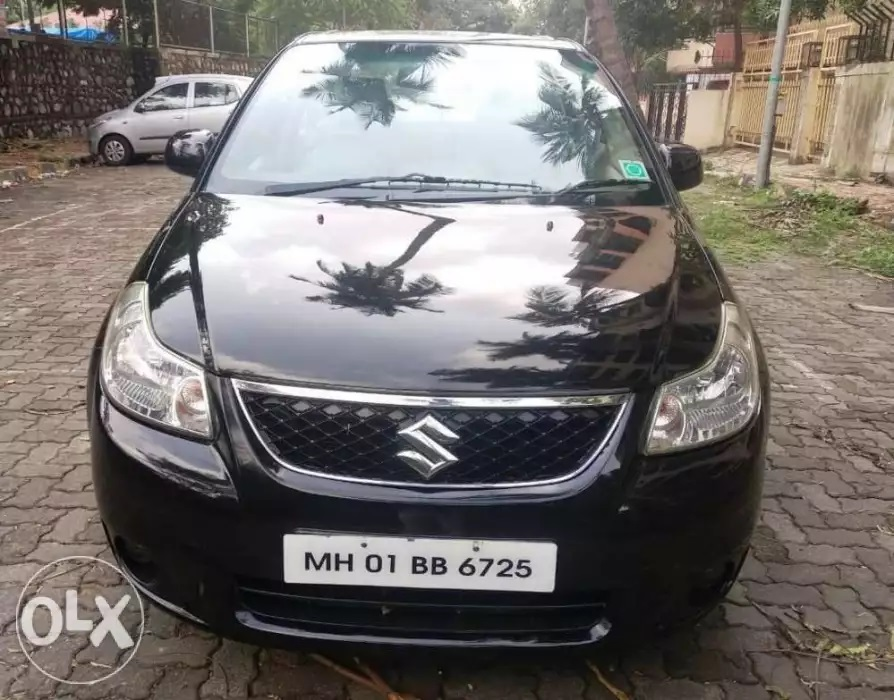licenseplate: (279, 531, 565, 596)
